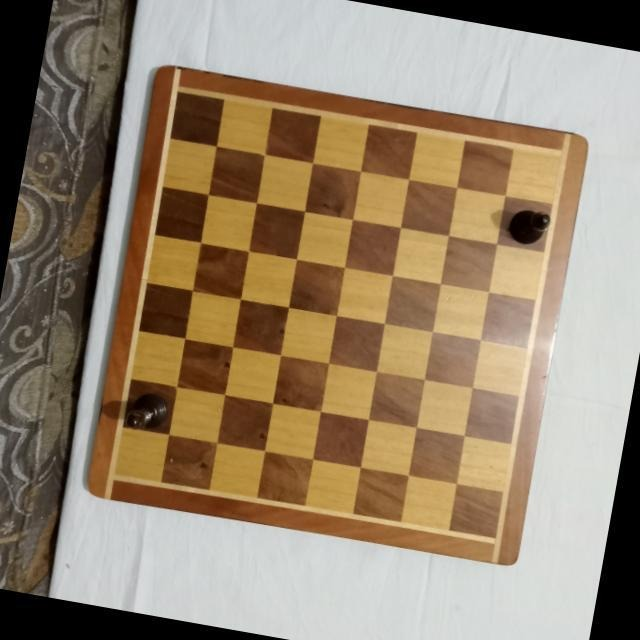black-bishop: (503, 205, 553, 249), (123, 389, 171, 434)
